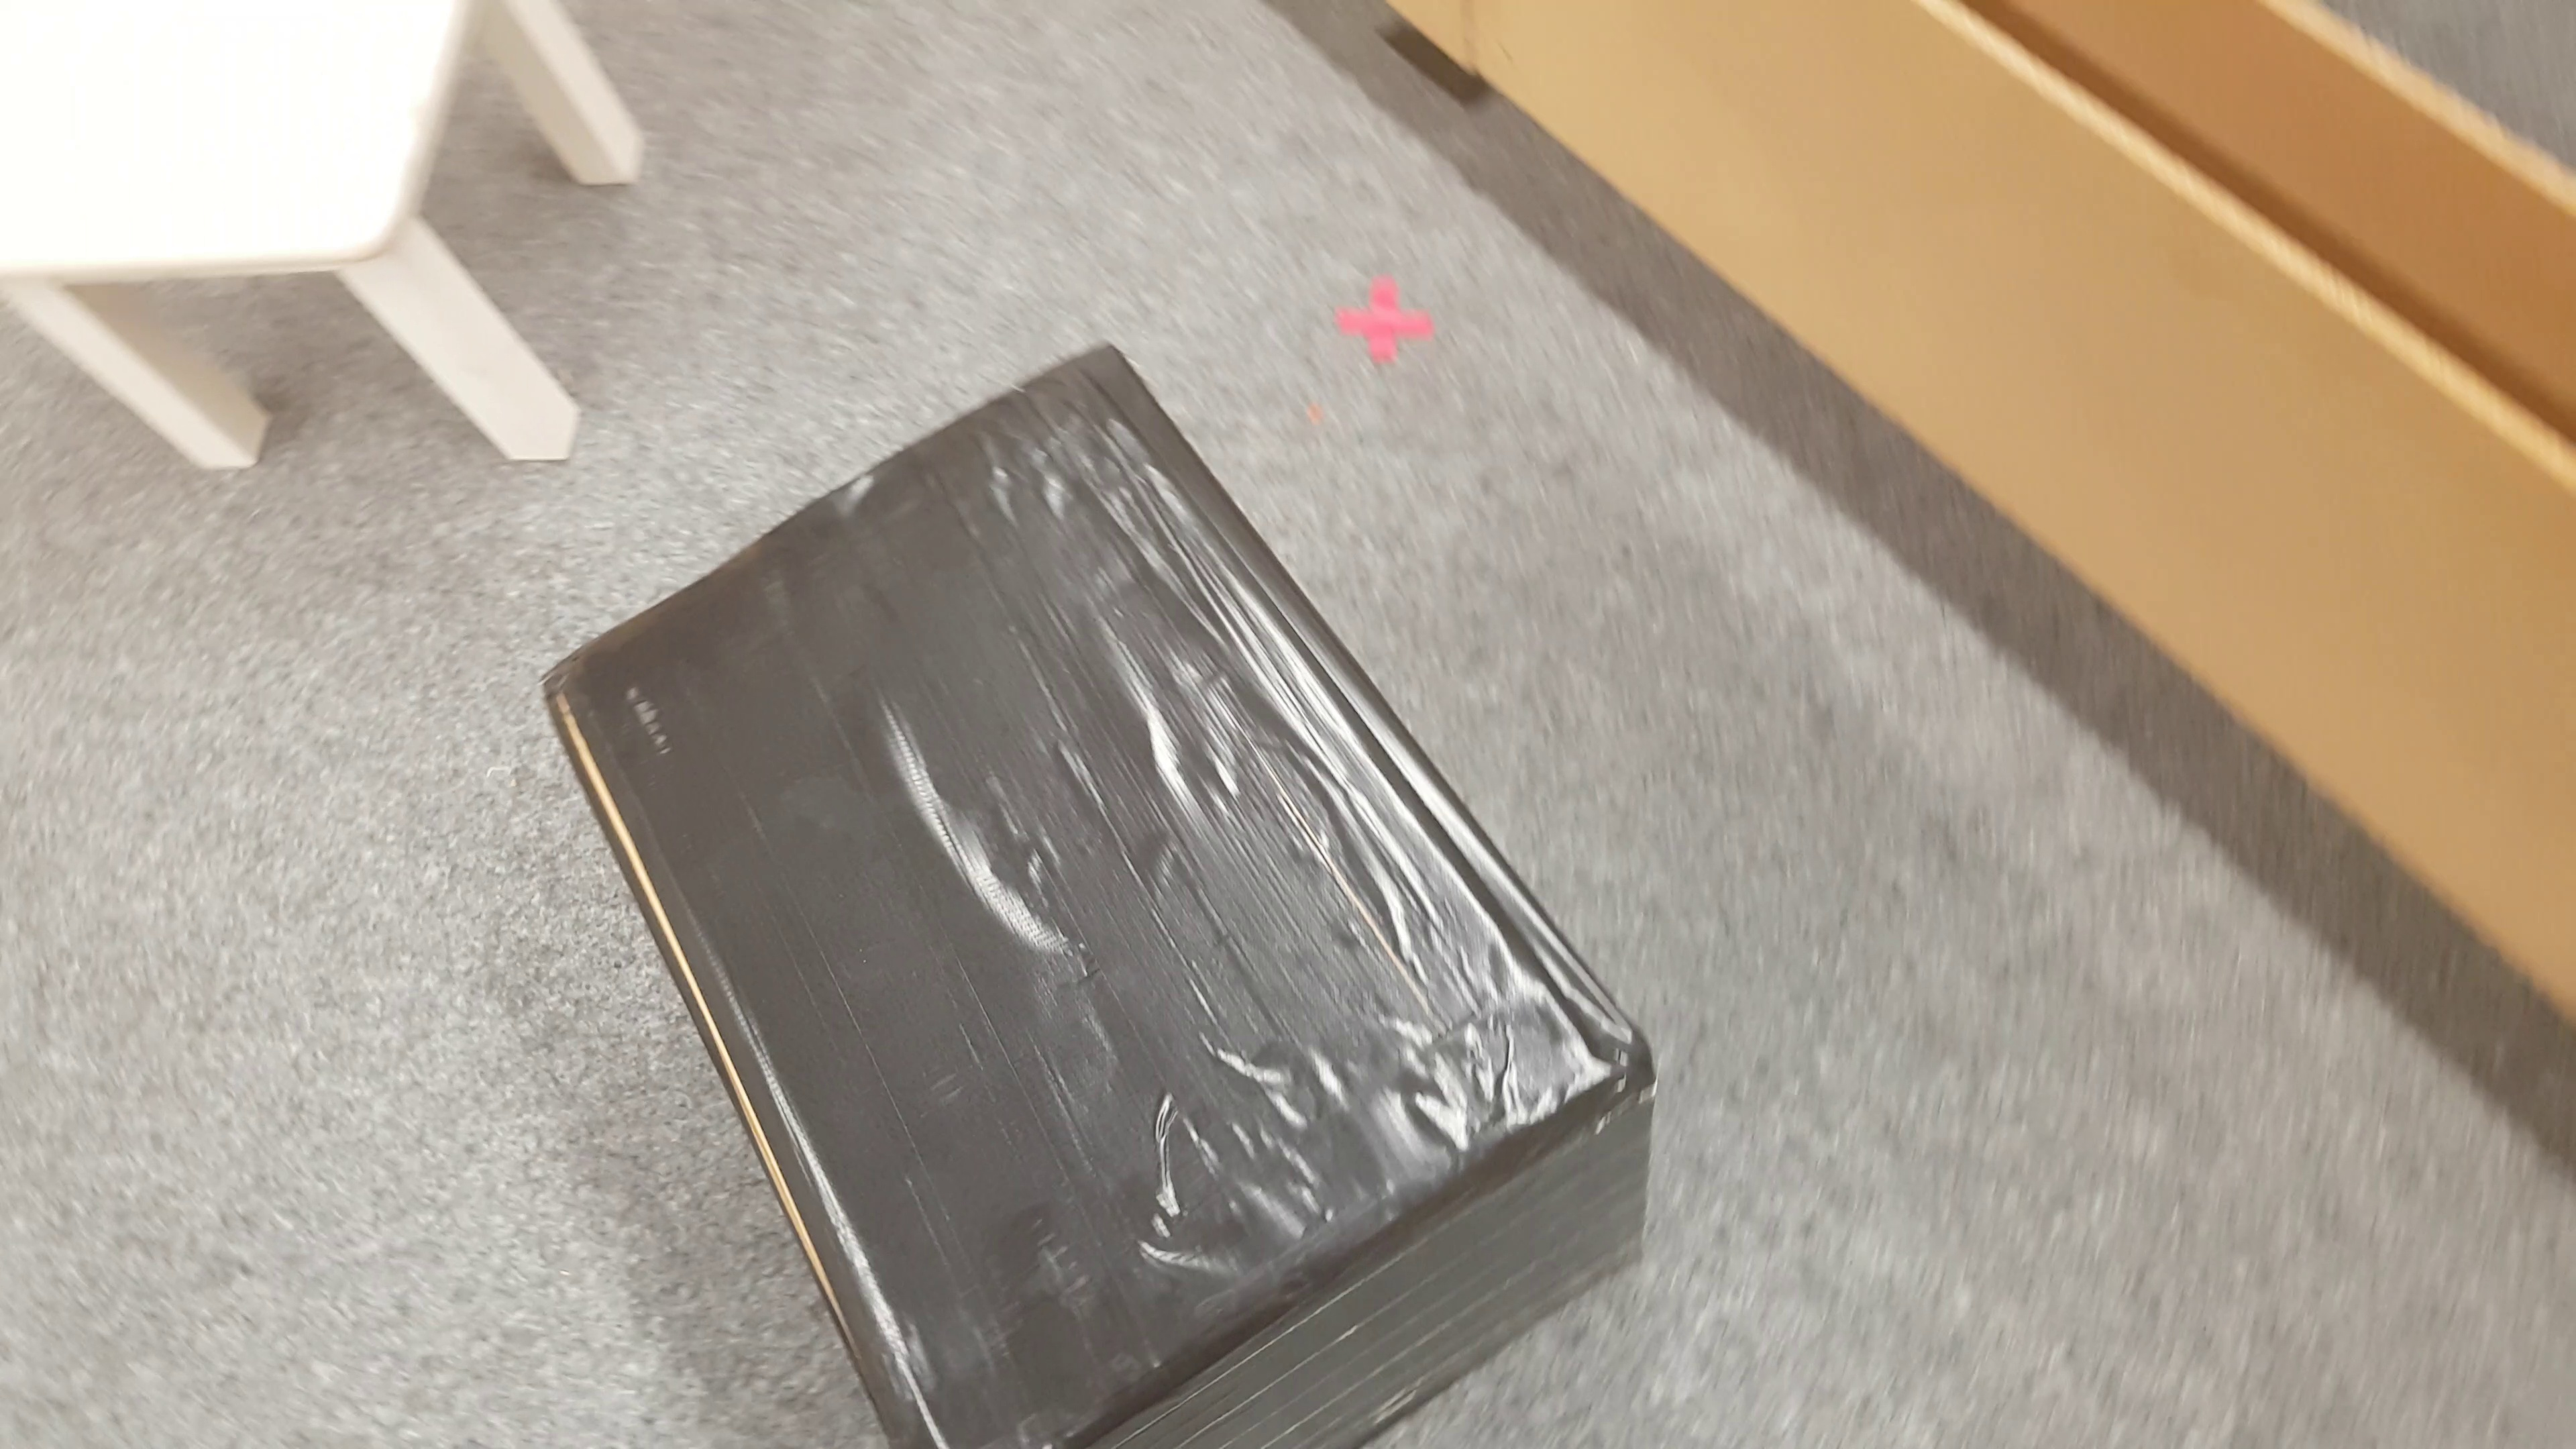push: (533, 340, 1667, 1449)
